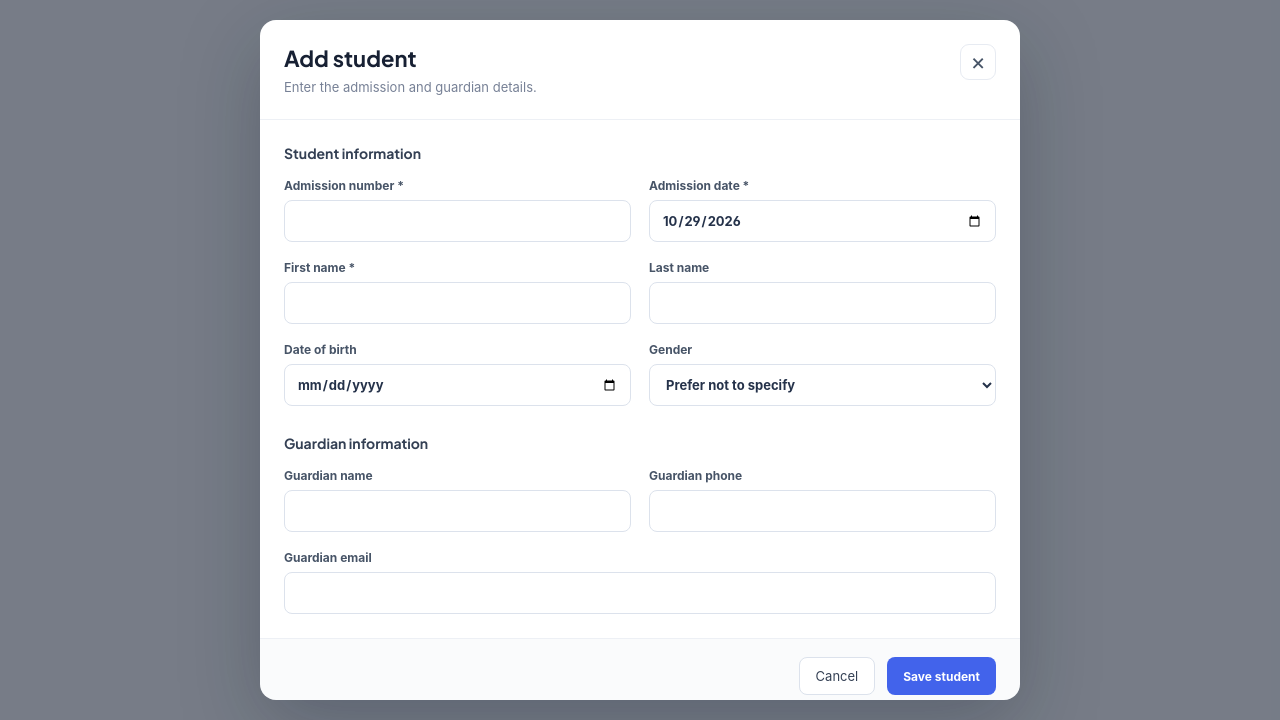
Test case: StudentForm › handles an unsuccessful API response
In the field labelled "Admission number *": (458, 221) x1=284 y1=200 x2=631 y2=242, type "ADM-303"
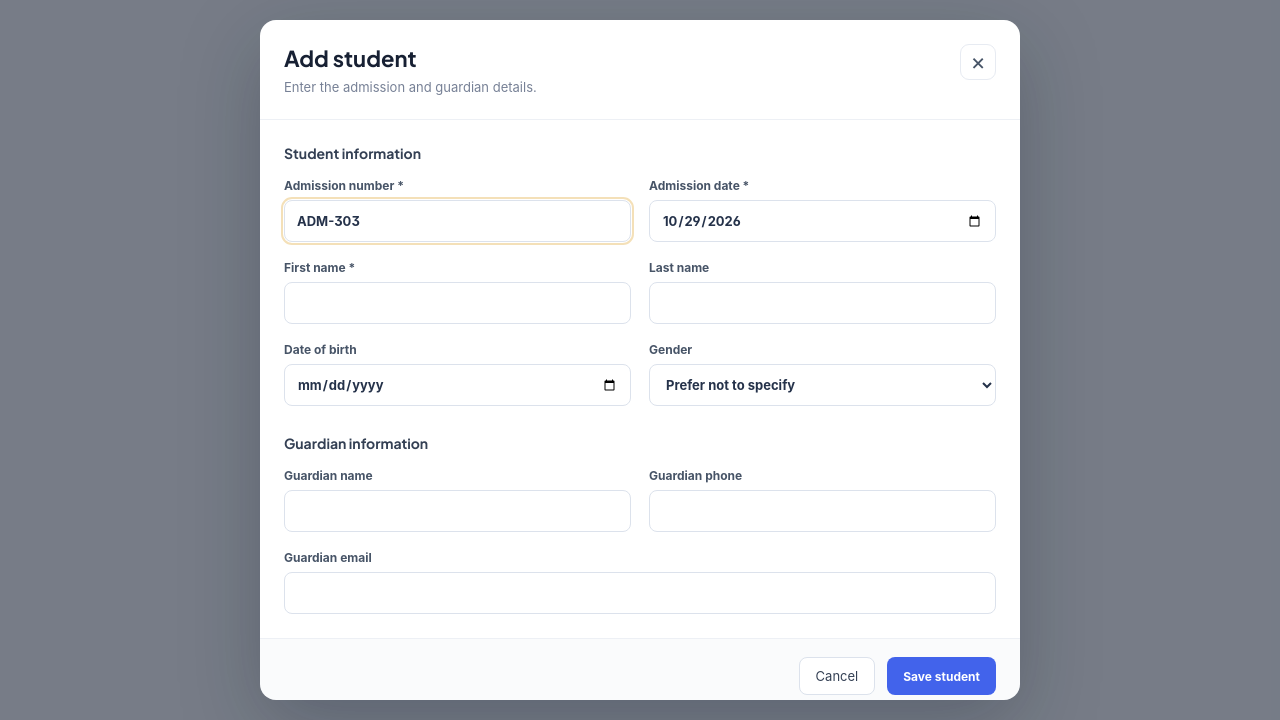
In the field labelled "First name *": (458, 303) x1=284 y1=282 x2=631 y2=324, type "Ayaan"
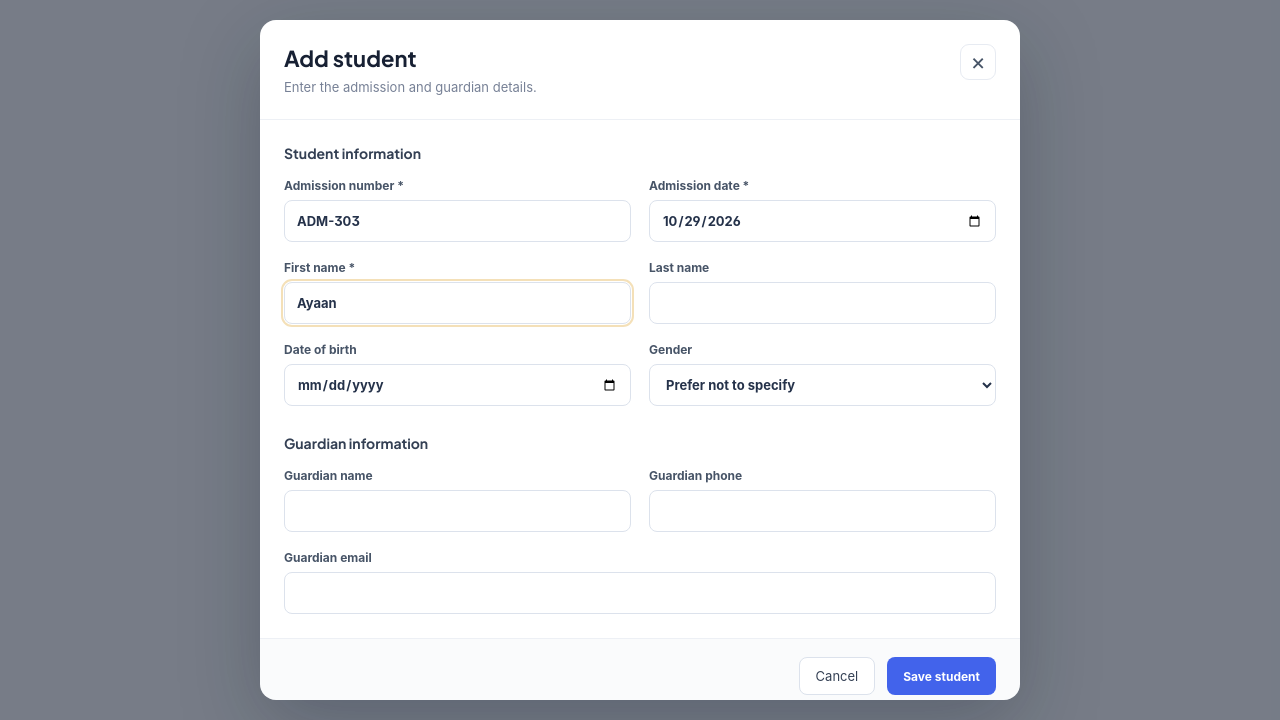
Click the button "Save student": (942, 676) x1=887 y1=657 x2=996 y2=695
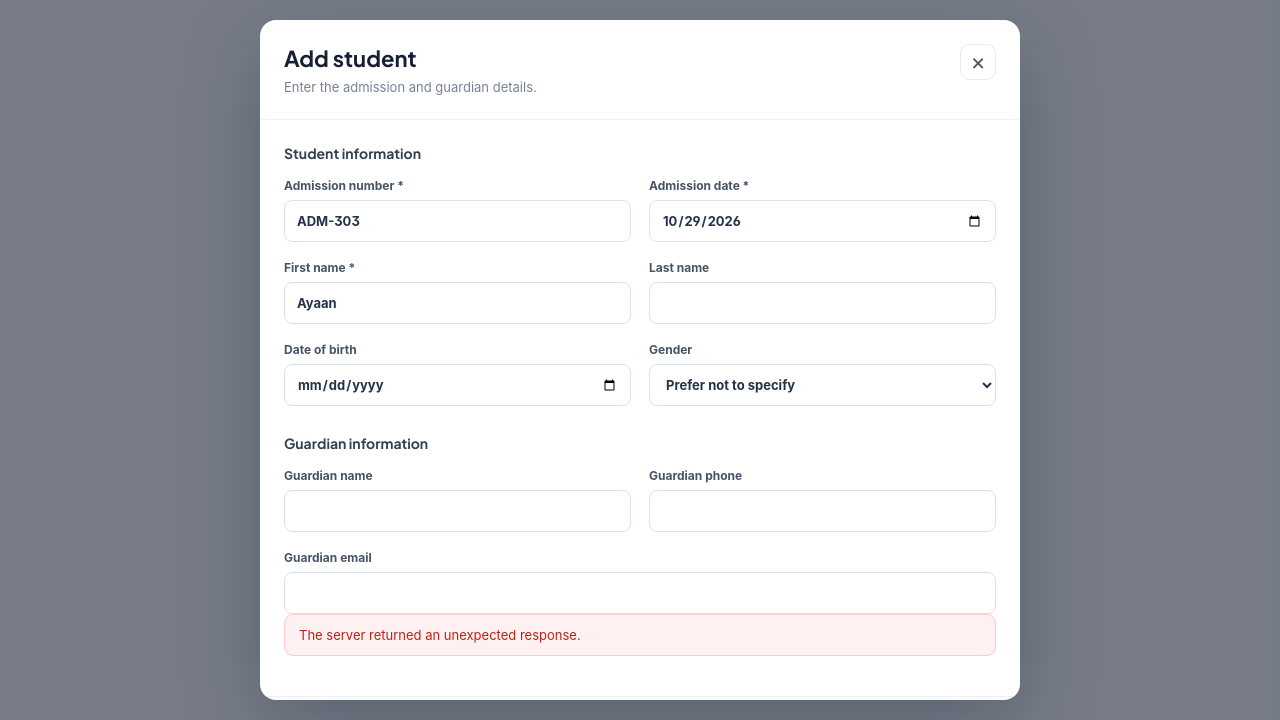
expect the message reads "The server returned an unexpected response.": met, box x1=299 y1=627 x2=581 y2=643
